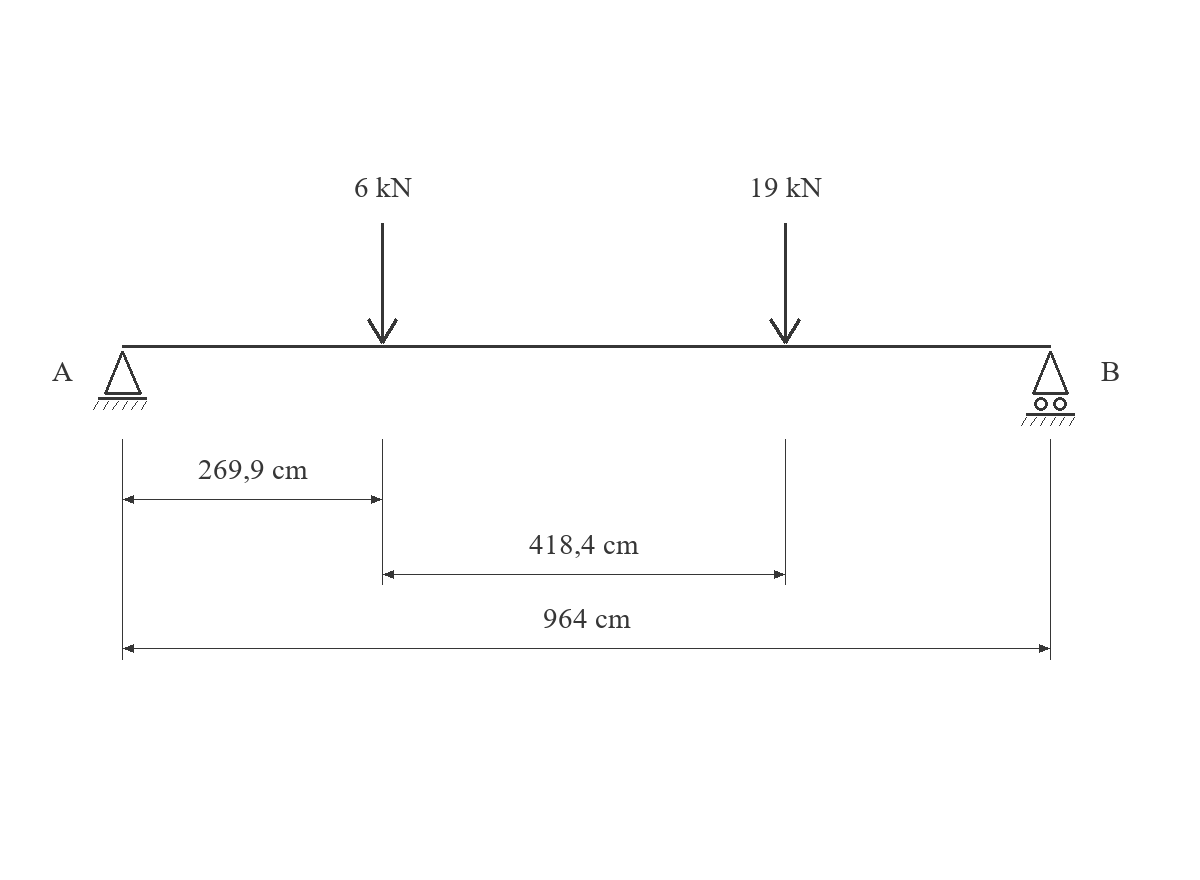pin_support: (93, 351, 147, 410)
point_load: (769, 223, 801, 344), (367, 223, 398, 344)
roller_support: (1021, 351, 1075, 426)
